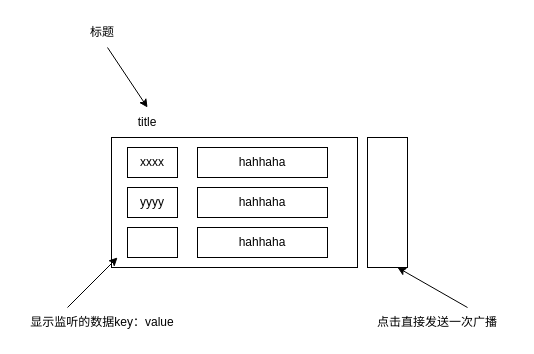
The diagram is 534 pixels wide and 354 high, and some of its shapes have lost their labels. Here are the shapes that lost their labels. From the top down, the centre of each, then its label:
At pixel 387 202: "send".
At pixel 152 242: "zzzz".
